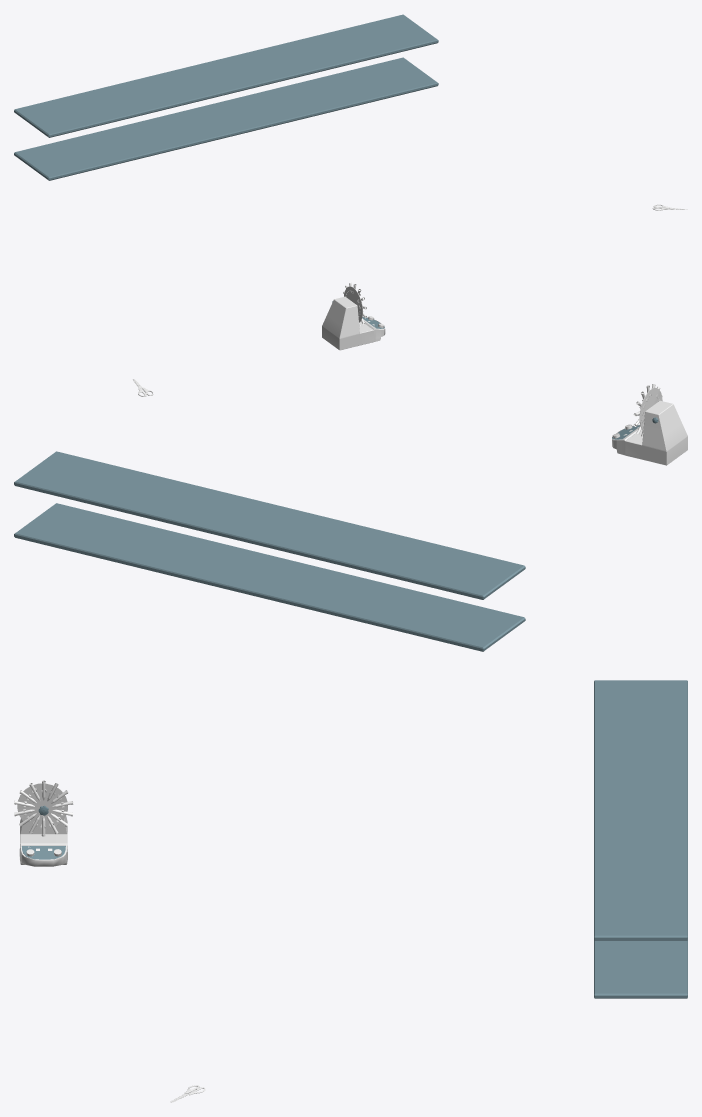
File: lab_chemistry12.fbx
3 renders of one model, top to bottom at view 1: azimuth 30°, elevation 25°; view 2: azimuth 150°, elevation 25°; view 3: azimuth 270°, elevation 25°, orthographic. The views are drawn at different scales.
Parts seen in each view (by area): view 1: polySurface988, polySurface989, tube_stand; view 2: polySurface988, polySurface989, tube_stand; view 3: polySurface988, polySurface989, tube_stand, test_tube.
Boxes of the visible parts, <box> form: polySurface988: <box>14,14,438,137</box>; polySurface989: <box>14,57,438,180</box>; tube_stand: <box>322,286,385,350</box>; polySurface988: <box>14,451,525,599</box>; polySurface989: <box>14,503,525,651</box>; tube_stand: <box>612,387,687,465</box>; polySurface988: <box>594,680,687,940</box>; polySurface989: <box>594,940,687,998</box>; tube_stand: <box>17,783,67,866</box>; test_tube: <box>16,783,71,834</box>.
Size of the model in its own units: 572 by 89.72 by 513.
